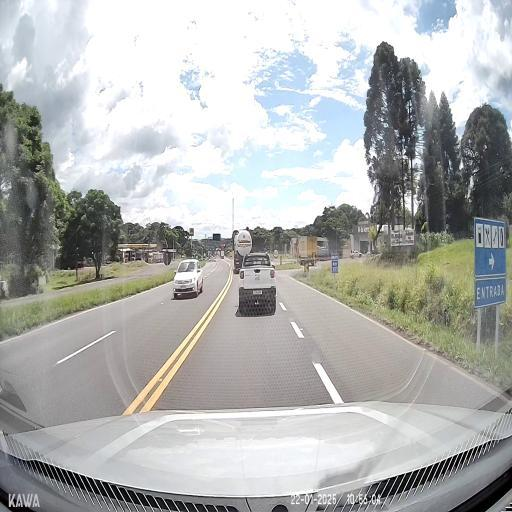R-19: (273, 248, 279, 258)
